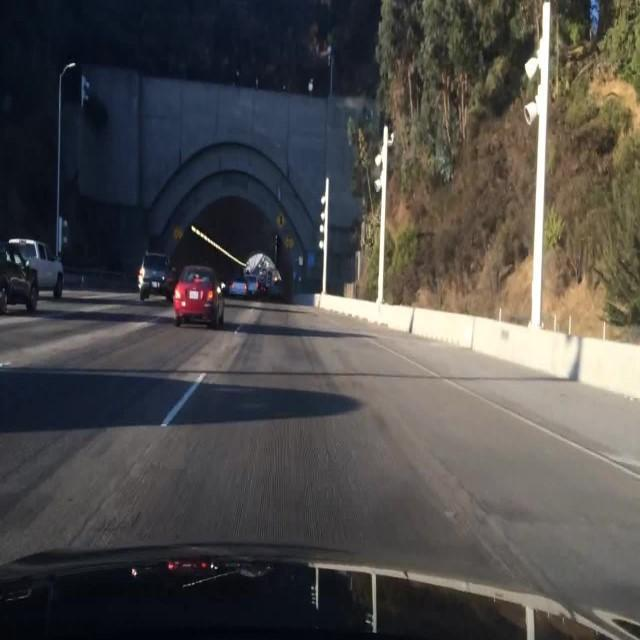normal: (129, 226, 232, 335)
